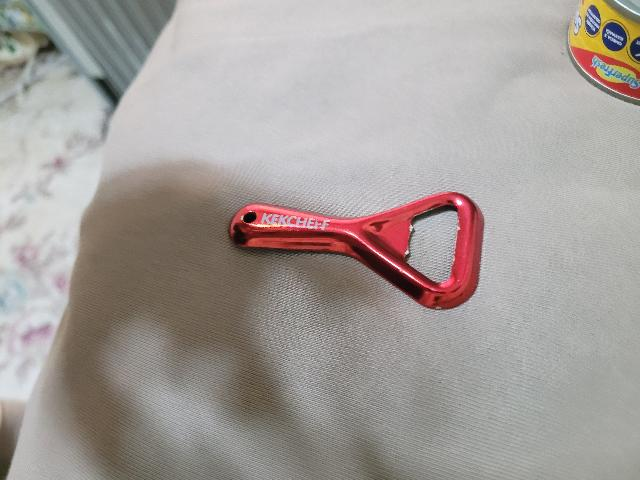Metal: (220, 190, 491, 312)
